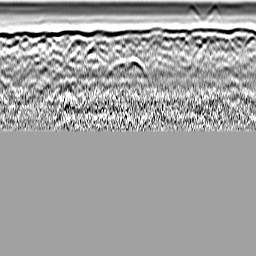cavity: (106, 57, 146, 76)
